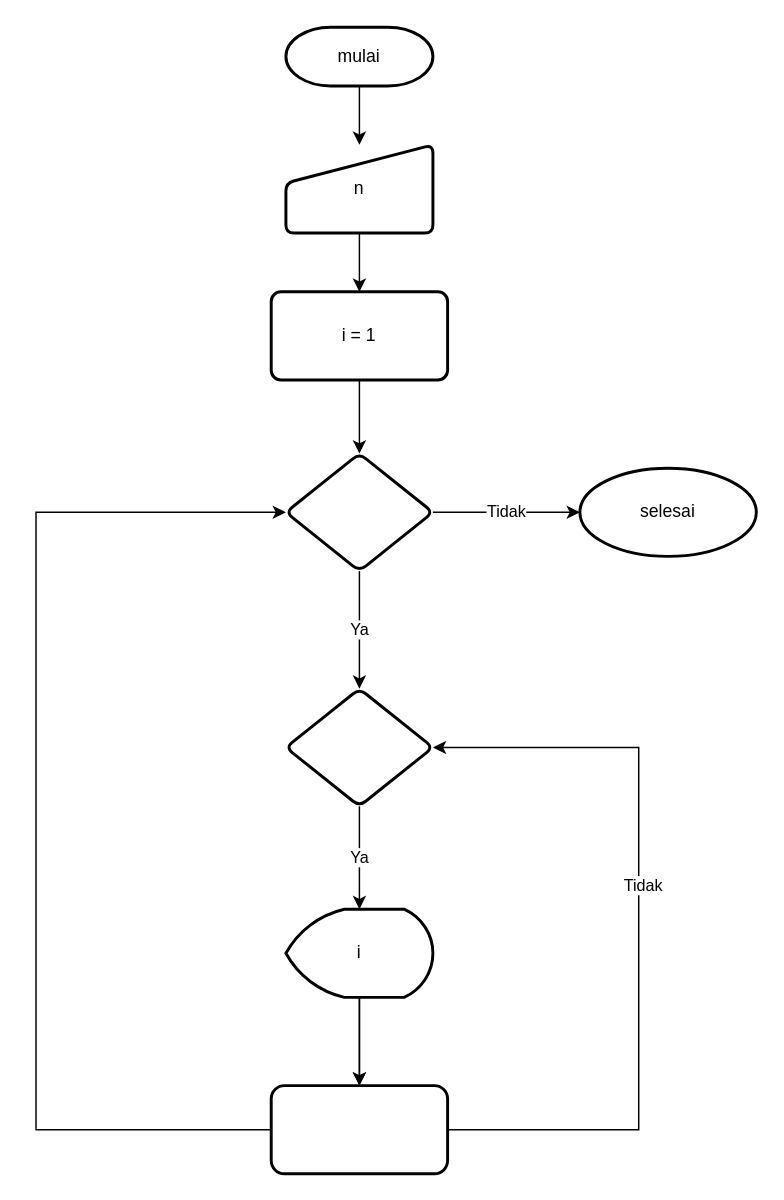
Image size: 784x1200. Some labels were removed from this diagram. Each missing label, with the centre of its shape:
i <= 2*n: (x=359, y=511)
i = i + 1: (x=358, y=1129)
i mod 2 == 0: (x=359, y=746)
